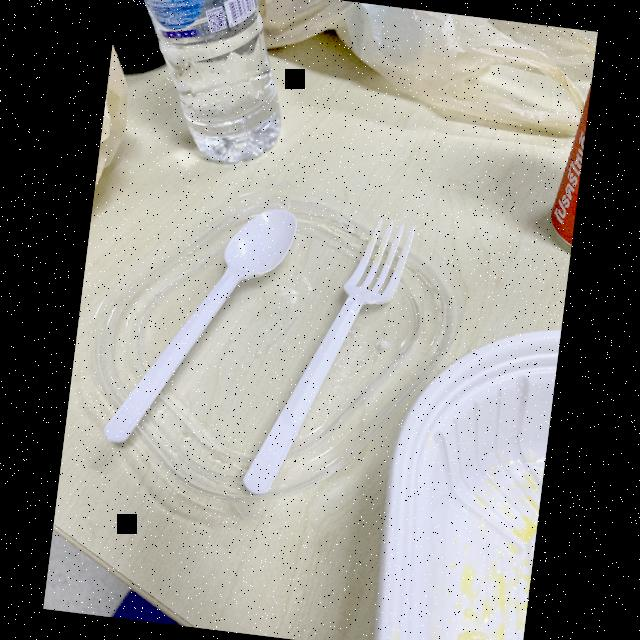plastic_cultery: (227, 203, 428, 521), (100, 183, 307, 471)
